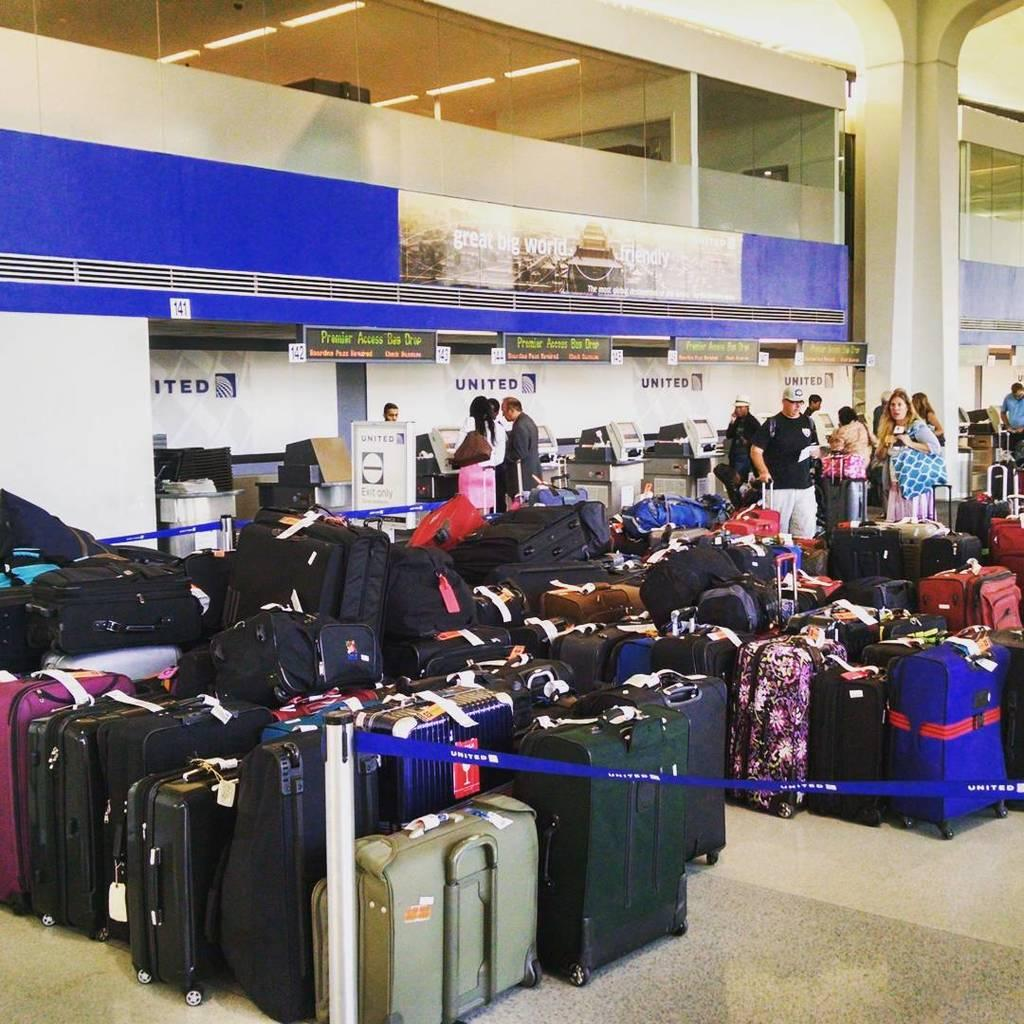Luggage-and-bags: (0, 473, 1022, 1021)
